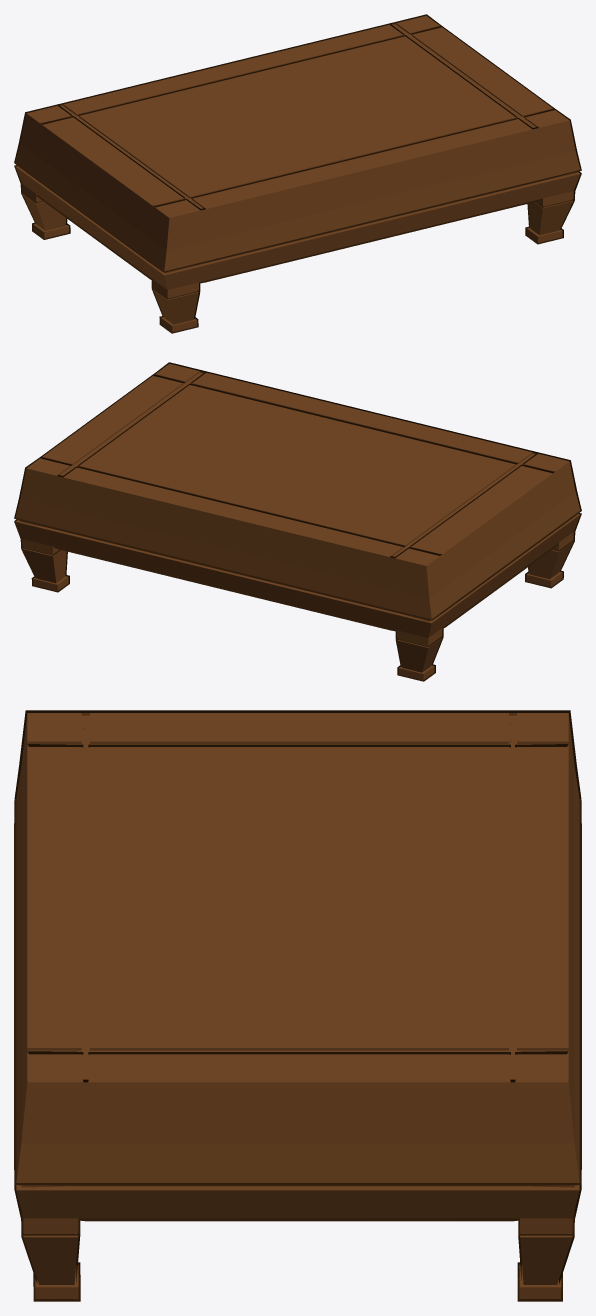
The model's file is ShortAlter_(Outlined)_v002.fbx.
3 views of the same model, one above another, from view 1: azimuth 30°, elevation 25°; view 2: azimuth 150°, elevation 25°; view 3: azimuth 270°, elevation 25° (orthographic). The views are drawn at different scales.
Parts seen in each view (by area): view 1: alter; view 2: alter; view 3: alter.
Boxes of the visible parts, <box> form: alter: <box>14,14,581,333</box>; alter: <box>14,362,581,681</box>; alter: <box>14,710,581,1301</box>.
Bounding box in the file's own units: 586 × 160 × 364.
